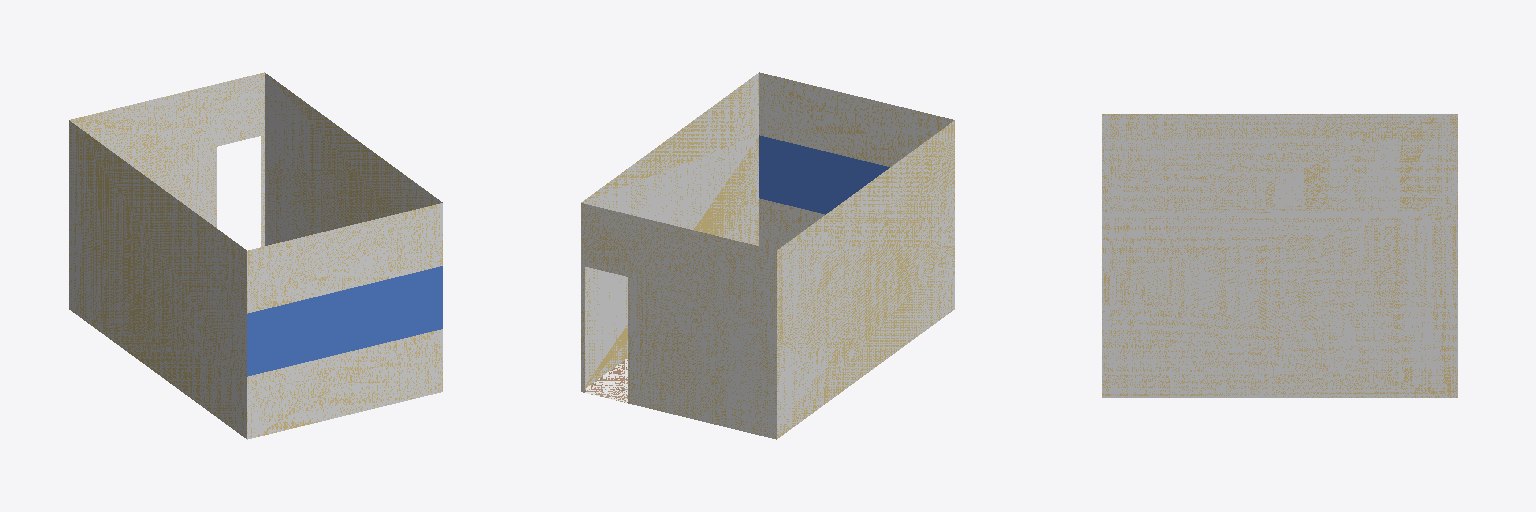
3 views of the same model, side by side, from view 1: azimuth 30°, elevation 25°; view 2: azimuth 150°, elevation 25°; view 3: azimuth 270°, elevation 25° (orthographic).
Parts seen in each view (by area): view 1: Mesh1 DES04 Model; view 2: Mesh1 DES04 Model; view 3: Mesh1 DES04 Model.
Boxes of the visible parts, x1=… form: Mesh1 DES04 Model: x1=69, y1=72, x2=442, y2=439; Mesh1 DES04 Model: x1=581, y1=72, x2=954, y2=439; Mesh1 DES04 Model: x1=1102, y1=114, x2=1457, y2=397.
Size of the model in its own units: 3.25 by 3 by 5.12.
Materials: 4 (1 with a texture image).